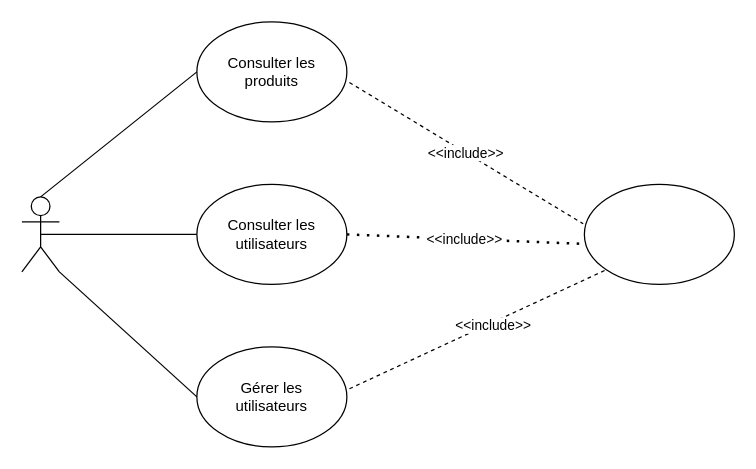
Image size: 756x469. Some labels were removed from this diagram. The centre of each missing label's shape, as x and y in pixels:
"Authentification" goes at [658,233].
"Client" goes at [40,234].
